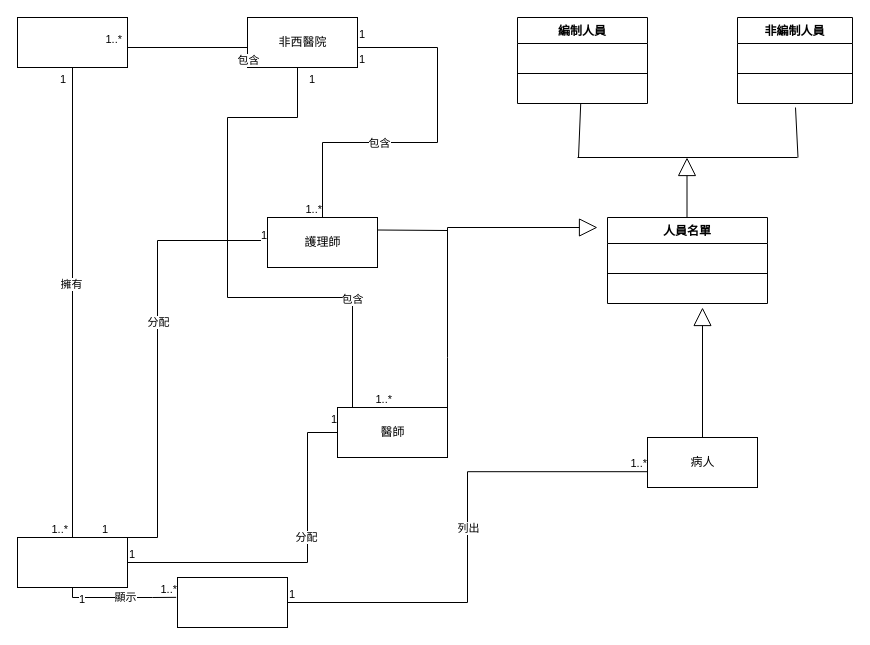
The diagram is 870 pixels wide and 645 high, and some of its shapes have lost their labels. The shapes that lost their labels are listed below. From the top down, each one's centre as x and y in pixels, then its label:
the point at 72,42: 診間
the point at 72,562: 時段
the point at 232,602: 病人的治療名單
